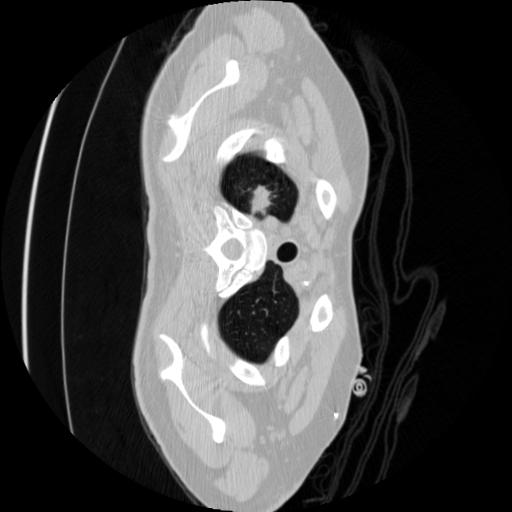nodule: (246, 184, 277, 215)
